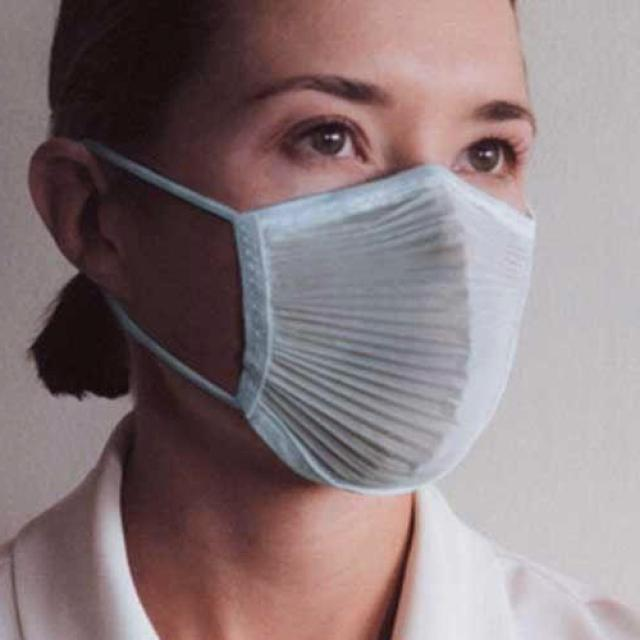face_mask: (136, 61, 542, 493)
